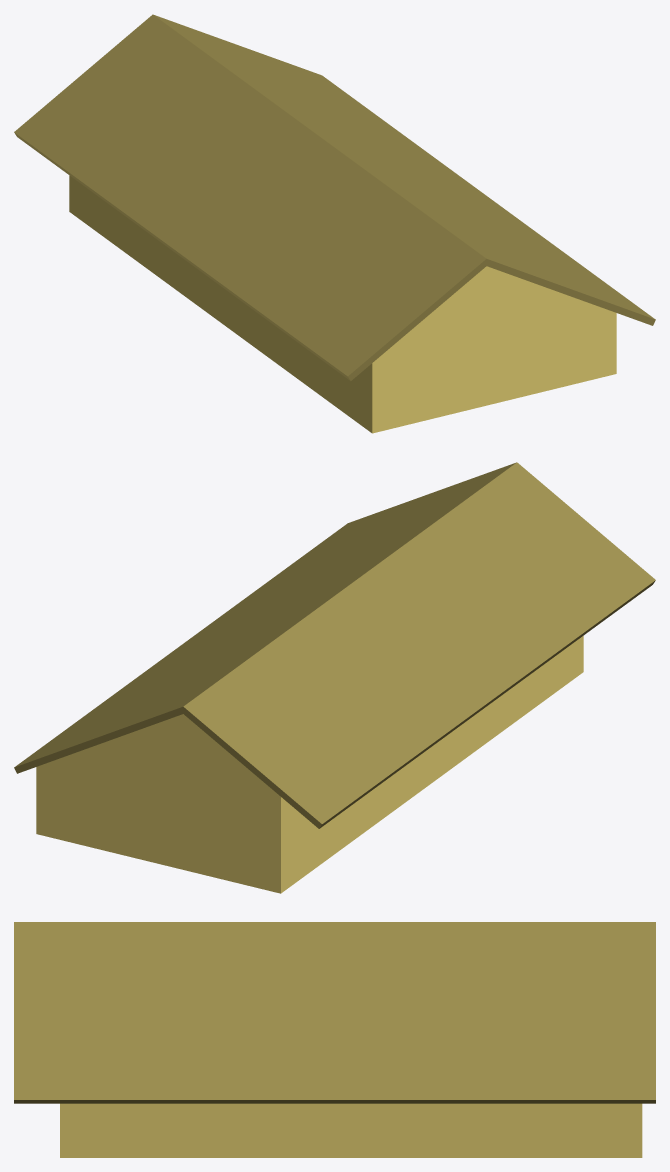
File: result.glb
The picture shows the model from 3 angles, top to bottom: view 1: azimuth 30°, elevation 25°; view 2: azimuth 150°, elevation 25°; view 3: azimuth 270°, elevation 25°; orthographic projection. The views are drawn at different scales.
Visible parts, largest first — view 1: 3f12031c-15d0-4df0-a5b6-6afbf61b1cb3__undefined (×2), 045165d4-dbe5-44c8-98fc-696c1441ad1b__undefined; view 2: 3f12031c-15d0-4df0-a5b6-6afbf61b1cb3__undefined (×2), 045165d4-dbe5-44c8-98fc-696c1441ad1b__undefined; view 3: 3f12031c-15d0-4df0-a5b6-6afbf61b1cb3__undefined, 045165d4-dbe5-44c8-98fc-696c1441ad1b__undefined.
Part boxes in pixels (x1,y1,x2,y2): 3f12031c-15d0-4df0-a5b6-6afbf61b1cb3__undefined (×2): (14, 14, 655, 380); 045165d4-dbe5-44c8-98fc-696c1441ad1b__undefined: (69, 175, 616, 433); 3f12031c-15d0-4df0-a5b6-6afbf61b1cb3__undefined (×2): (14, 462, 655, 828); 045165d4-dbe5-44c8-98fc-696c1441ad1b__undefined: (36, 636, 583, 893); 3f12031c-15d0-4df0-a5b6-6afbf61b1cb3__undefined: (14, 922, 655, 1103); 045165d4-dbe5-44c8-98fc-696c1441ad1b__undefined: (60, 1103, 642, 1157).
Bounding box in the file's own units: 1258 × 664 × 2360.
